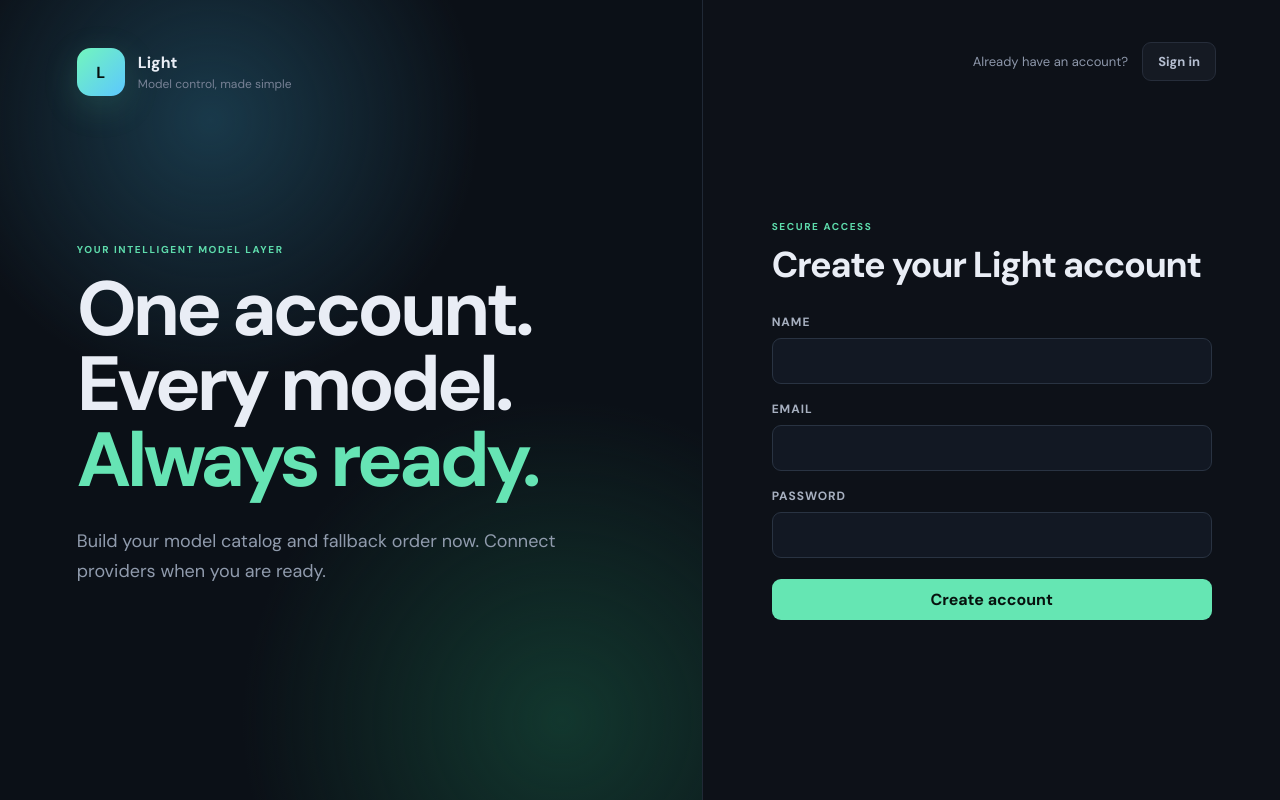
Test: Light account access › submits join and moves to randomized six-digit email verification
Type "Elijah" into the field labelled "Name" at (992, 360), box [772,338,1212,384]
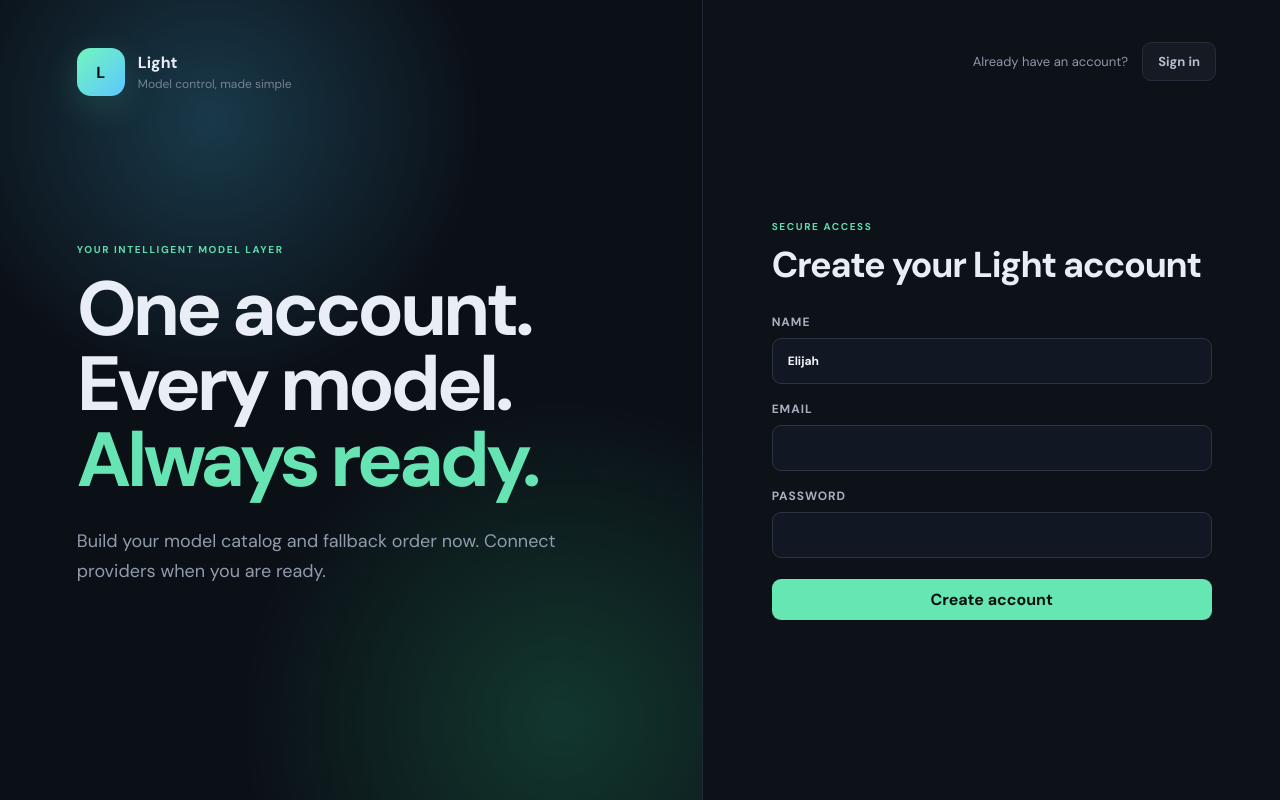
Type "elijah@example.com" into the field labelled "Email" at (992, 448), box [772,424,1212,470]
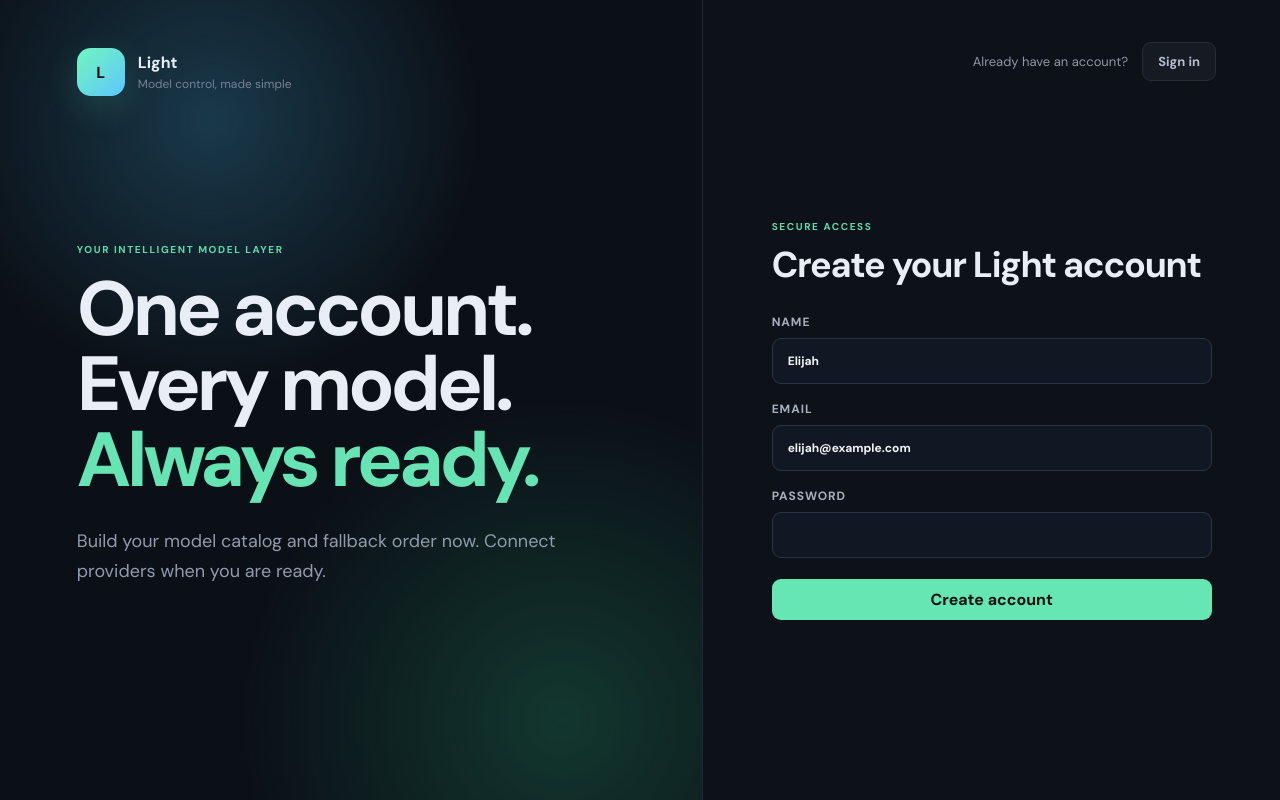
Type "a secure password" into the password field labelled "Password" at (992, 534), box [772,512,1212,558]
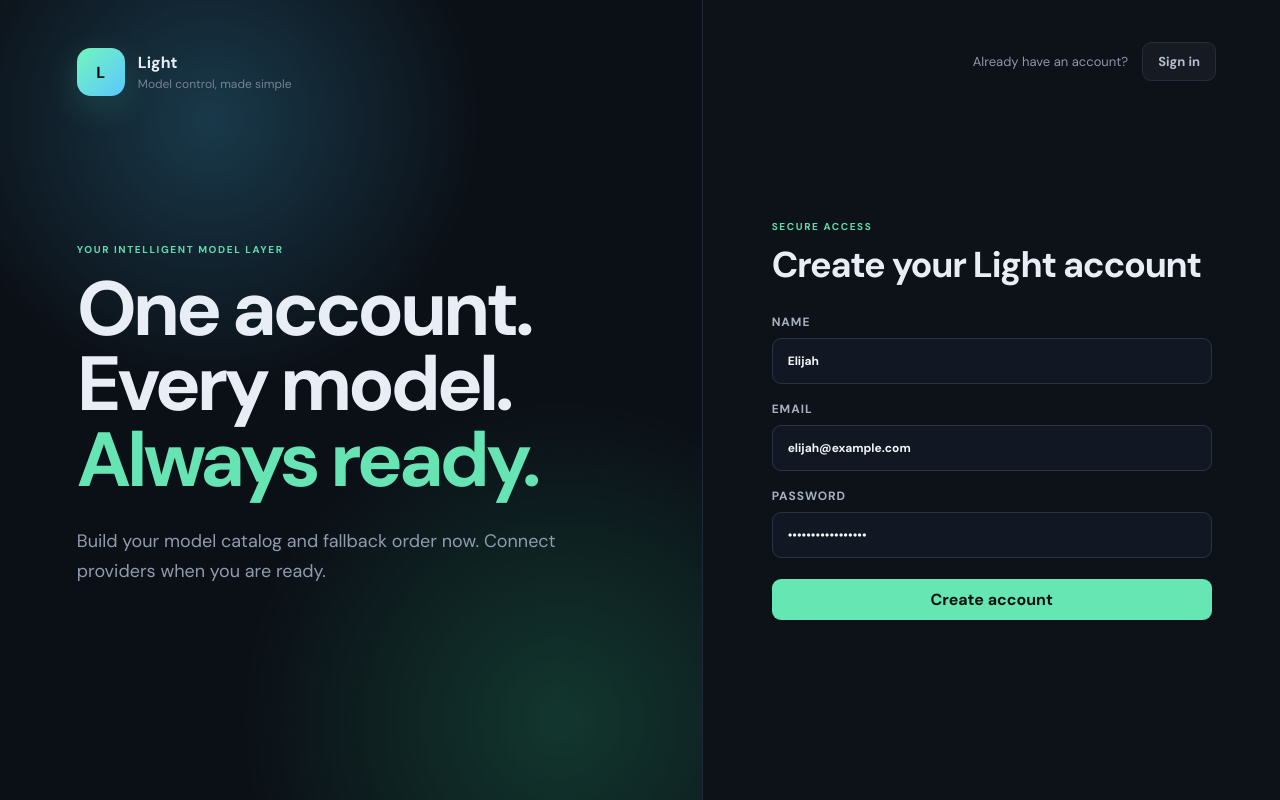
Click the button "Create account" at (992, 599), box [772,578,1212,620]
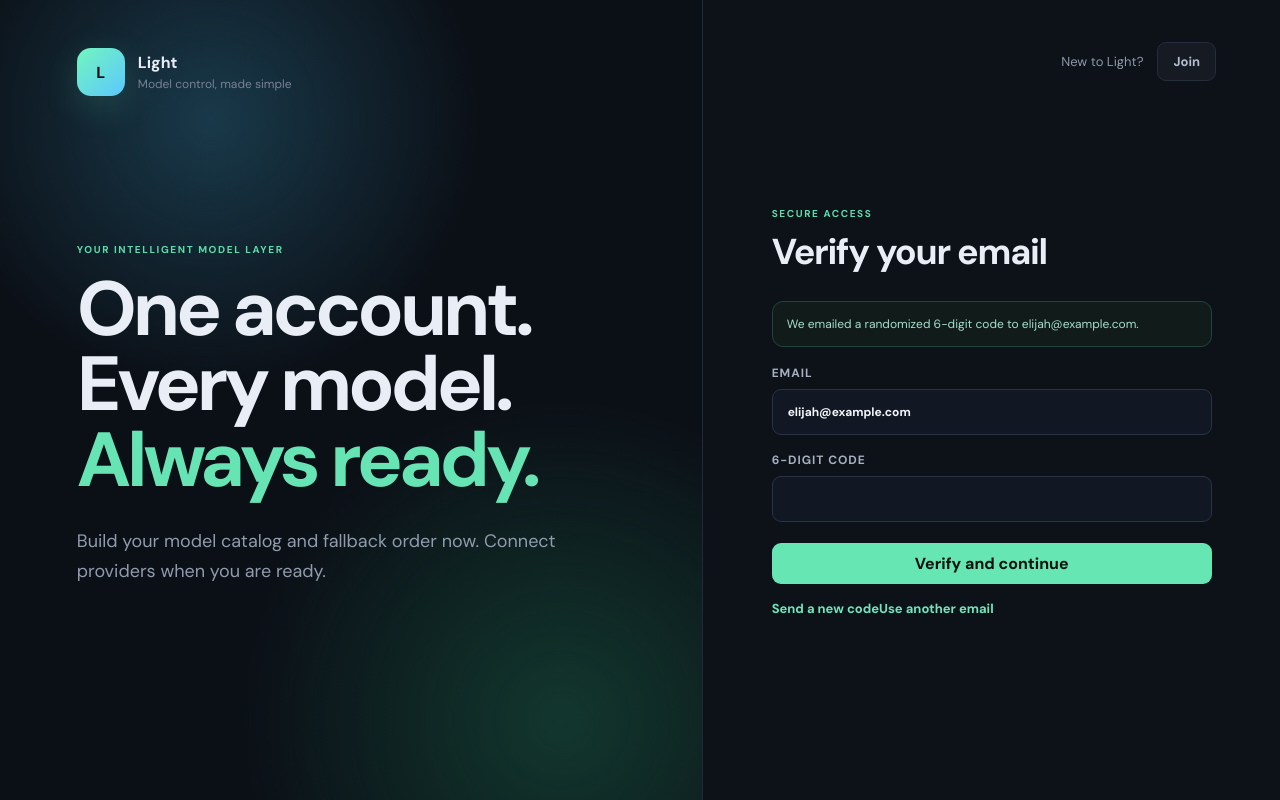
Result: the text "We emailed a randomized 6-digit code to elijah@example.com." is shown at [772,300,1212,346]
